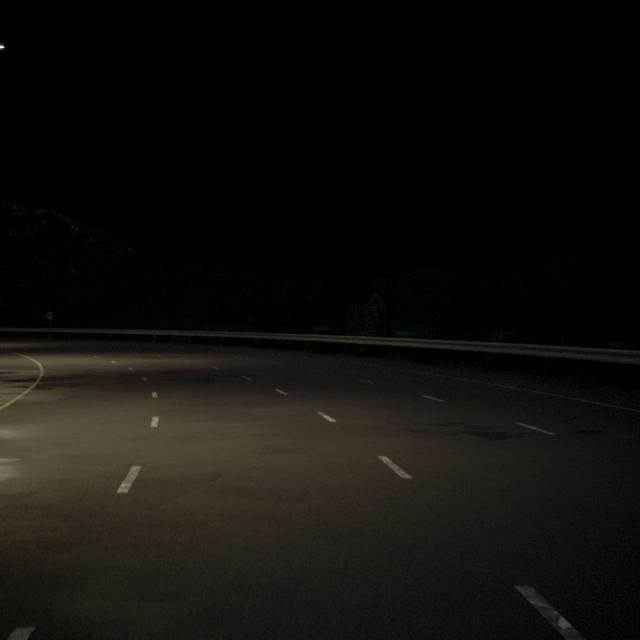Traffic_Signs: (46, 312, 53, 320)
